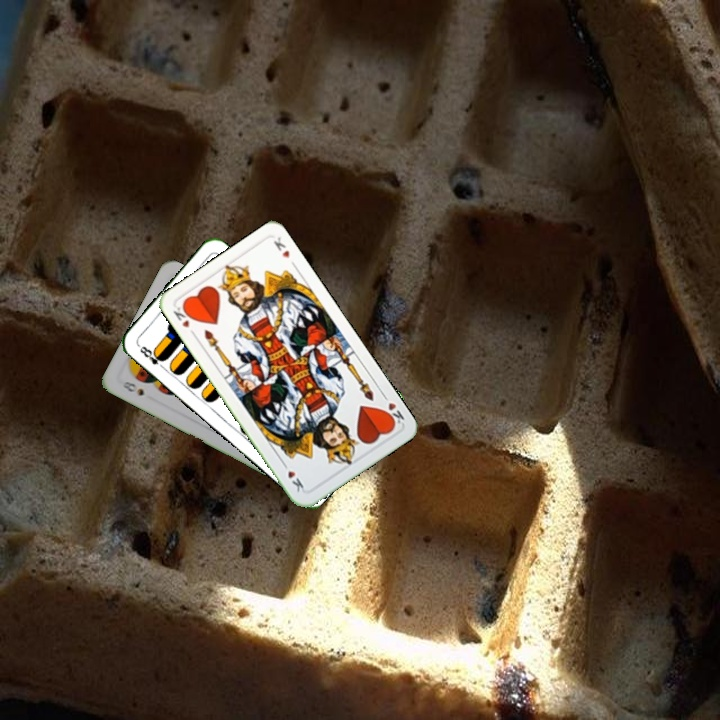E8: (136, 342, 168, 372)
HK: (169, 299, 199, 339), (378, 390, 407, 429)
S8: (116, 377, 147, 398)
